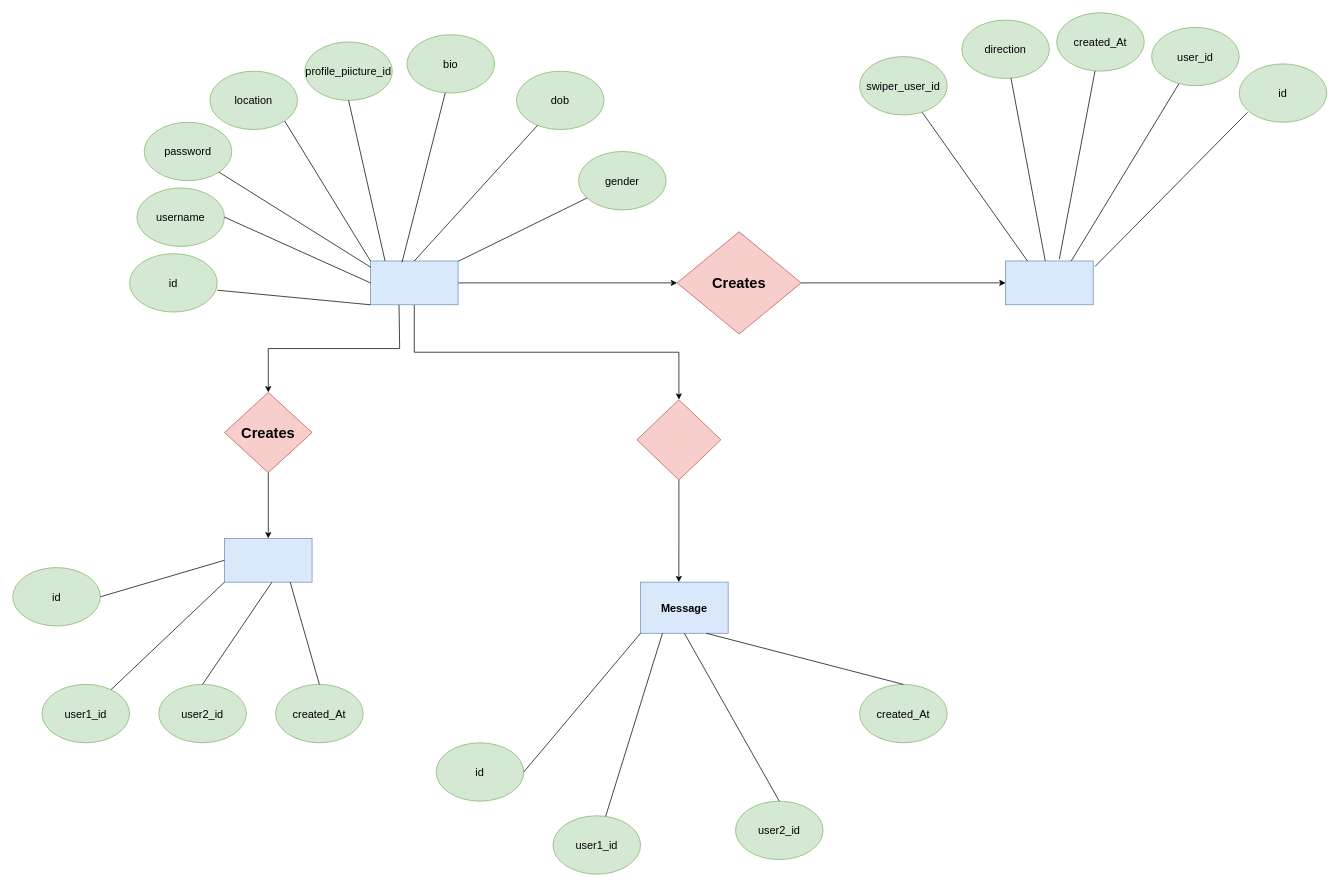
Image size: 1340x887. Some labels were removed from this diagram. Here are the shapes that lost their labels. From the top down, the centre of each, then its label:
At point (414, 282): "User".
At point (1049, 282): "Swipe".
At point (678, 439): "Sends".
At point (268, 560): "Match".
